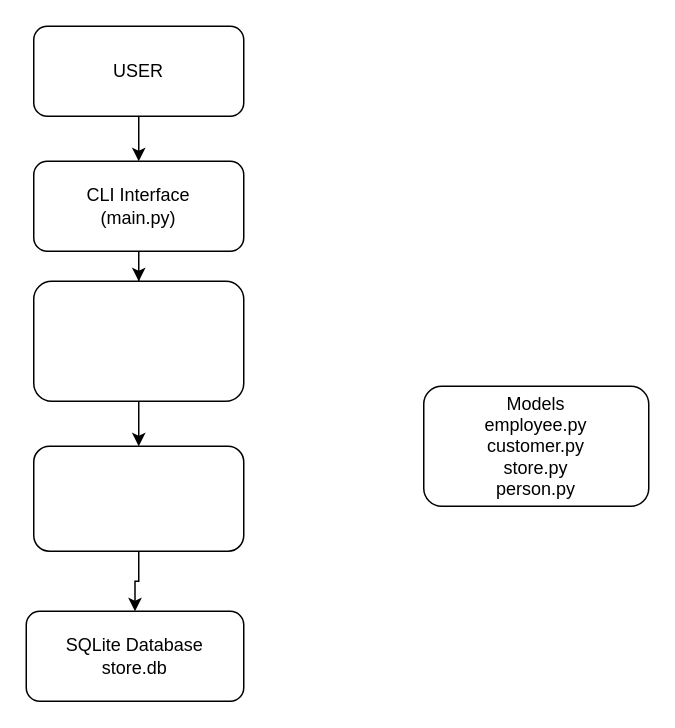
Image size: 675x728. Some labels were removed from this diagram. The shapes that lost their labels are listed below. From the top down, each one's box as (x1, y1, x2, y2) in pixels, then its label:
(32, 280, 244, 401): Menu Layer employee_menu.py customer_menu.py product_menu.py sales_menu.py
(32, 445, 244, 551): Service Layer product_service.py store_service.py logger.py
